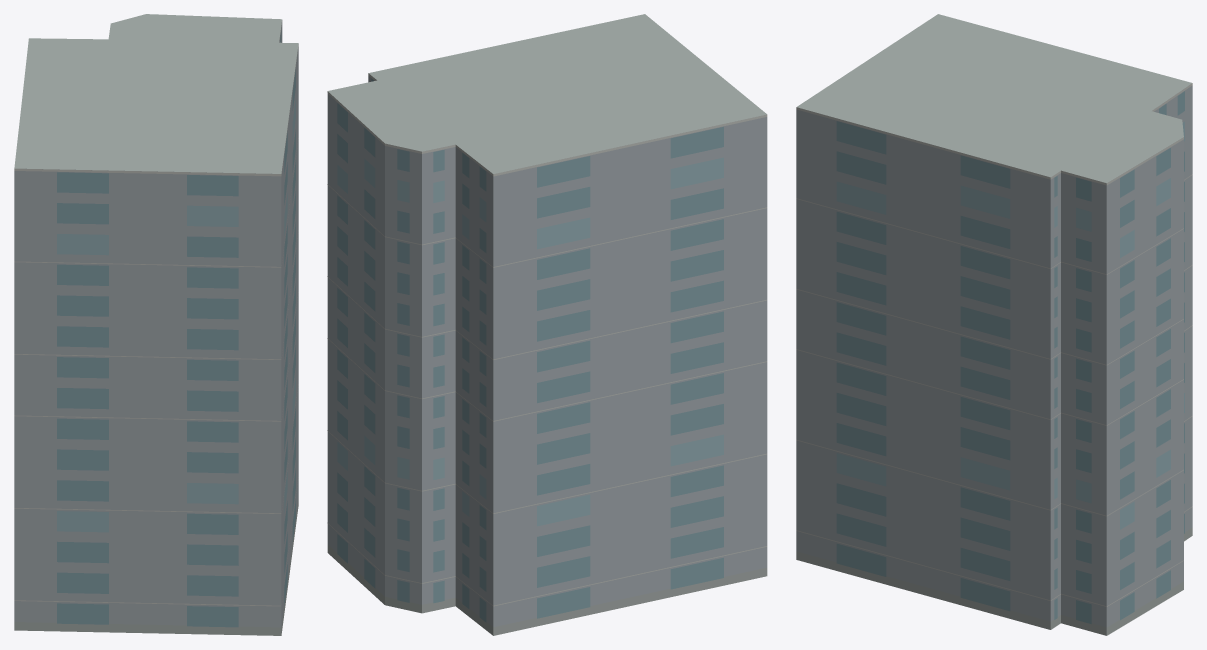
The model's file is survey-upis-32744682.glb.
3 renders of one model, left to right at view 1: azimuth 30°, elevation 25°; view 2: azimuth 150°, elevation 25°; view 3: azimuth 270°, elevation 25°, orthographic. The views are drawn at different scales.
Parts seen in each view (by area): view 1: survey-upis-32744682.tmp; view 2: survey-upis-32744682.tmp; view 3: survey-upis-32744682.tmp.
Part boxes in pixels (x1=…): survey-upis-32744682.tmp: x1=14, y1=14, x2=298, y2=635; survey-upis-32744682.tmp: x1=327, y1=14, x2=767, y2=635; survey-upis-32744682.tmp: x1=796, y1=14, x2=1192, y2=635.
Bounding box in the file's own units: 38.15 × 47.55 × 37.74.
